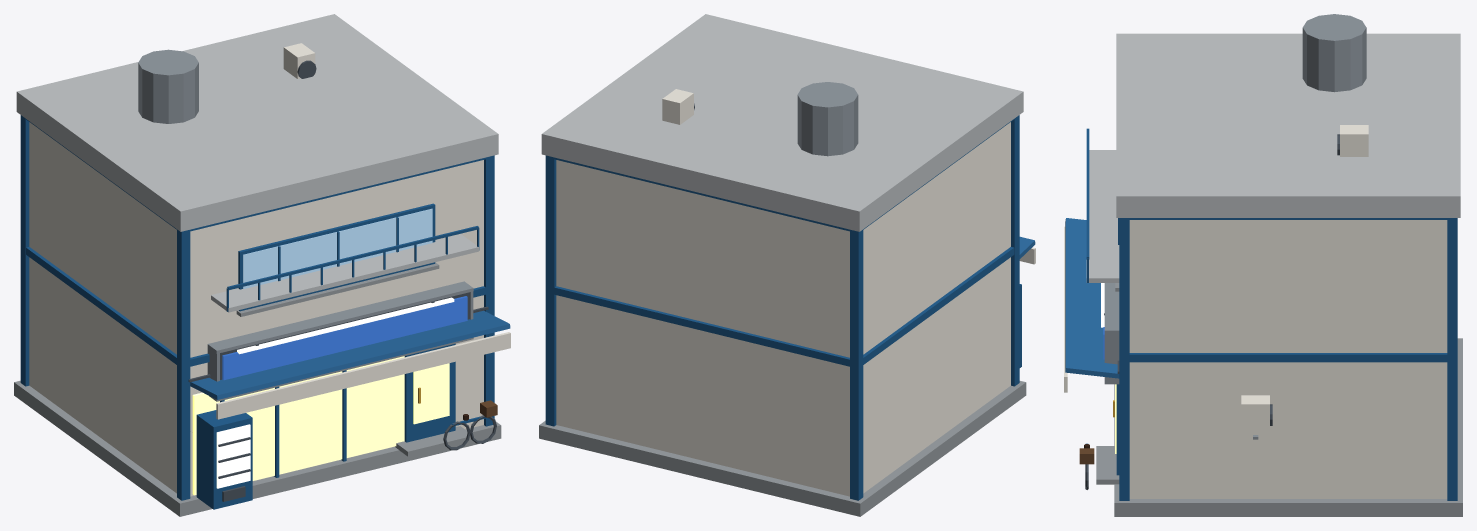
File: shop_konbini_2f.glb
The picture shows the model from 3 angles, left to right: view 1: azimuth 30°, elevation 25°; view 2: azimuth 150°, elevation 25°; view 3: azimuth 270°, elevation 25°; orthographic projection. The views are drawn at different scales.
Parts seen in each view (by area): view 1: body, parapet, shop_glass, base, awning, win_glass, sign_face, awning_lip, balcony_slab, water_tank, post, sign_rim_top (+16 smaller); view 2: body, parapet, base, beam, water_tank, post.001, post.003, post, ac_body.001, beam.001; view 3: body, parapet, base, awning, water_tank, balcony_slab, beam, post.002, post.003, ac_body, ac_body.001, threshold (+4 smaller).
Boxes of the visible parts, <box> form: body: <box>29,122,483,496</box>; parapet: <box>16,14,498,231</box>; shop_glass: <box>192,356,404,495</box>; base: <box>14,380,501,516</box>; awning: <box>190,310,510,399</box>; win_glass: <box>243,208,432,288</box>; sign_face: <box>222,296,467,380</box>; awning_lip: <box>216,332,510,419</box>; balcony_slab: <box>211,234,478,312</box>; water_tank: <box>138,49,198,123</box>; post: <box>177,229,190,500</box>; sign_rim_top: <box>207,281,473,353</box>; body: <box>556,122,1010,496</box>; parapet: <box>541,14,1023,231</box>; base: <box>539,381,1026,516</box>; beam: <box>554,247,1014,366</box>; water_tank: <box>797,82,858,156</box>; post.001: <box>850,229,863,500</box>; post.003: <box>545,155,556,426</box>; post: <box>1011,115,1019,386</box>; ac_body.001: <box>662,89,693,124</box>; beam.001: <box>554,119,1014,231</box>; body: <box>1129,220,1447,498</box>; parapet: <box>1116,33,1460,217</box>; base: <box>1114,338,1462,516</box>; awning: <box>1065,218,1119,378</box>; water_tank: <box>1302,14,1366,92</box>; balcony_slab: <box>1086,150,1119,282</box>; beam: <box>1129,353,1447,362</box>; post.002: <box>1119,218,1129,500</box>; post.003: <box>1447,218,1457,500</box>; ac_body: <box>1241,395,1269,434</box>; ac_body.001: <box>1340,125,1368,156</box>; threshold: <box>1096,446,1119,484</box>.
Bounding box in the file's own units: 7.84 × 8 × 7.75.
